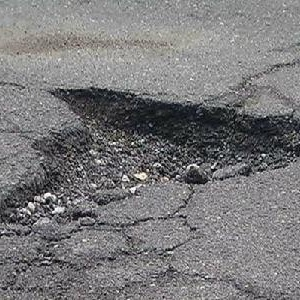pothole: (0, 83, 300, 239)
